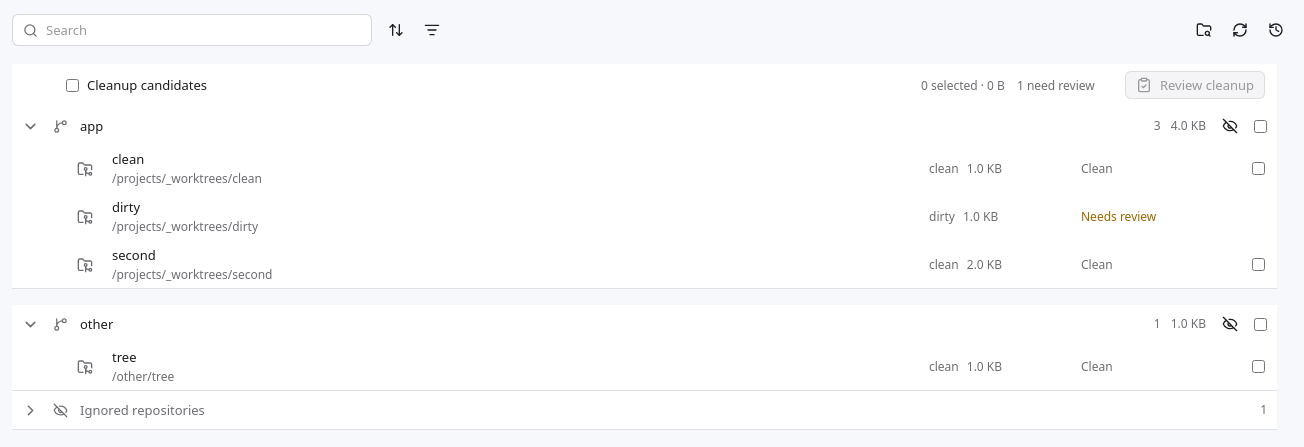
Scenario: WorktreeDialog › selects candidates across collapsed repositories, reports exclusions and exposes mixed selection
Click the checkbox named "Select Worktree for review" in the row of "/projects/_worktrees/clean" at (1258, 168), box [1252,162,1265,175]
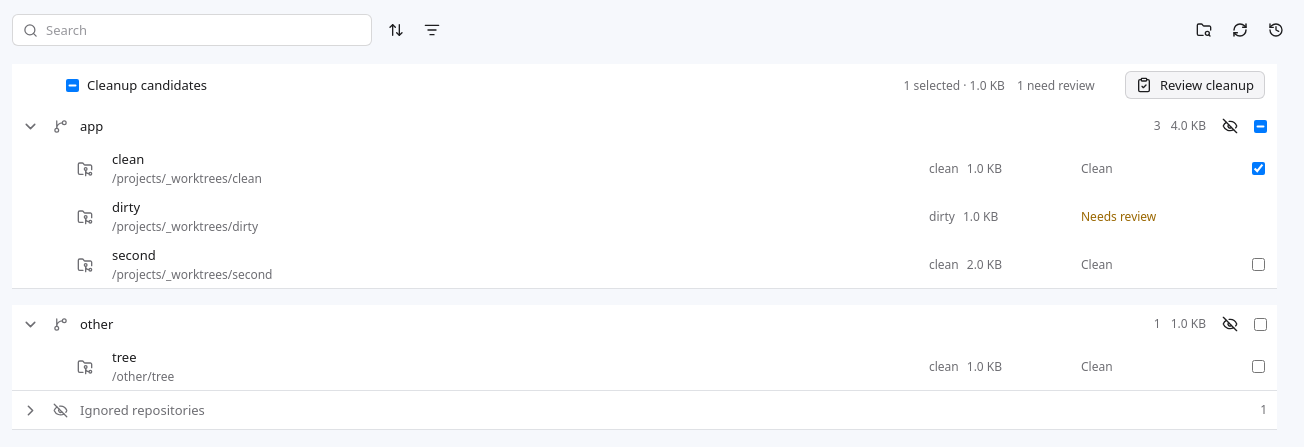
Click the button "app 3" at (30, 126), box [12,107,1171,145]
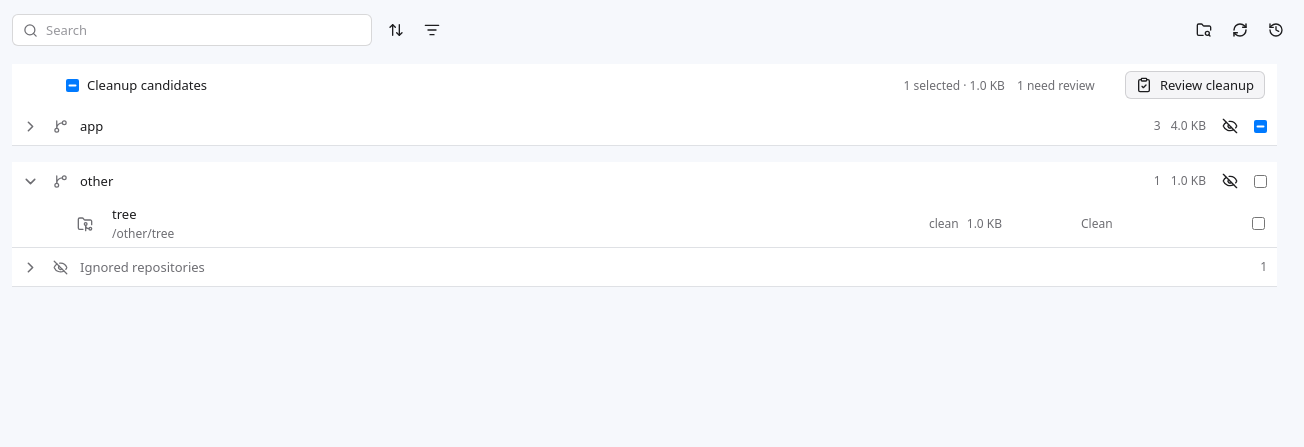
Click the checkbox named "Select all cleanup candidates in this view" at (72, 85), box [66,78,79,92]
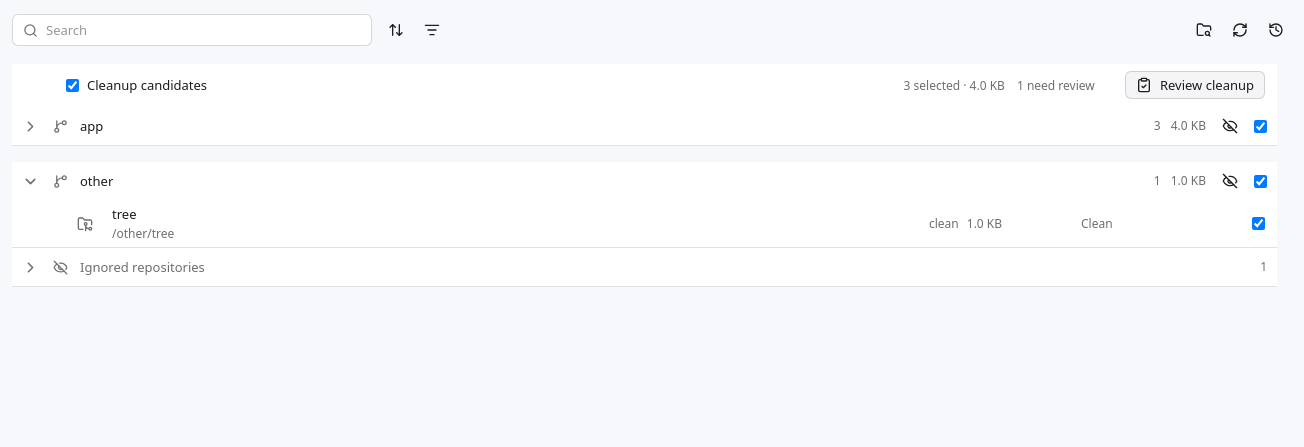
Expected: the text "1 need review" is shown, [1017,76,1095,94]
Result: the checkbox named "Select all cleanup candidates in this view" is checked
Result: the text "3 selected · 4.0 KB" is shown at [904,76,1005,94]
Click the checkbox named "Select all cleanup candidates in this view" at (72, 85), box [66,78,79,92]
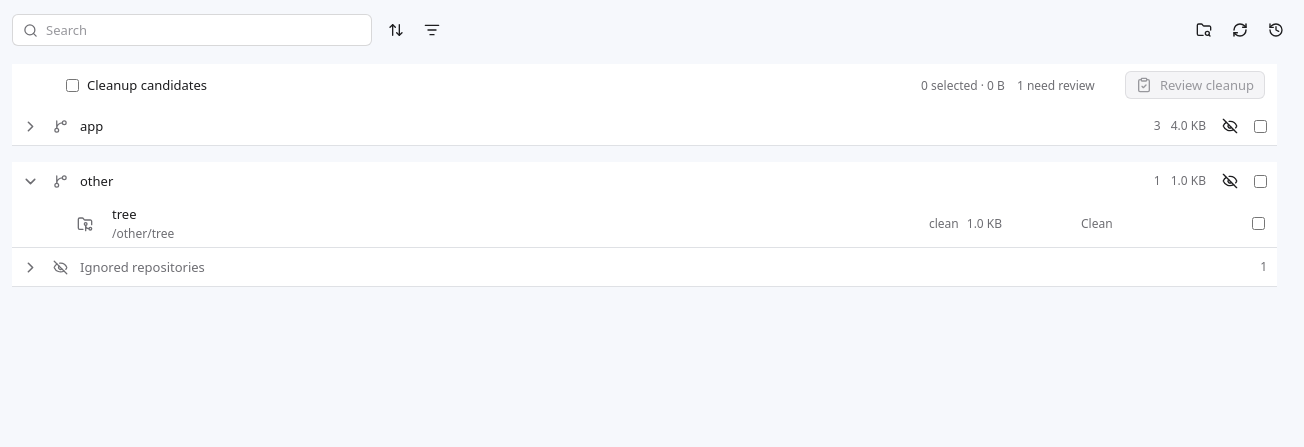
Result: the button with aria-label "Review cleanup (0)" is disabled at [1125,71,1265,99]
Type "/other/tree" into the search field at (204, 30), box [46,15,361,45]
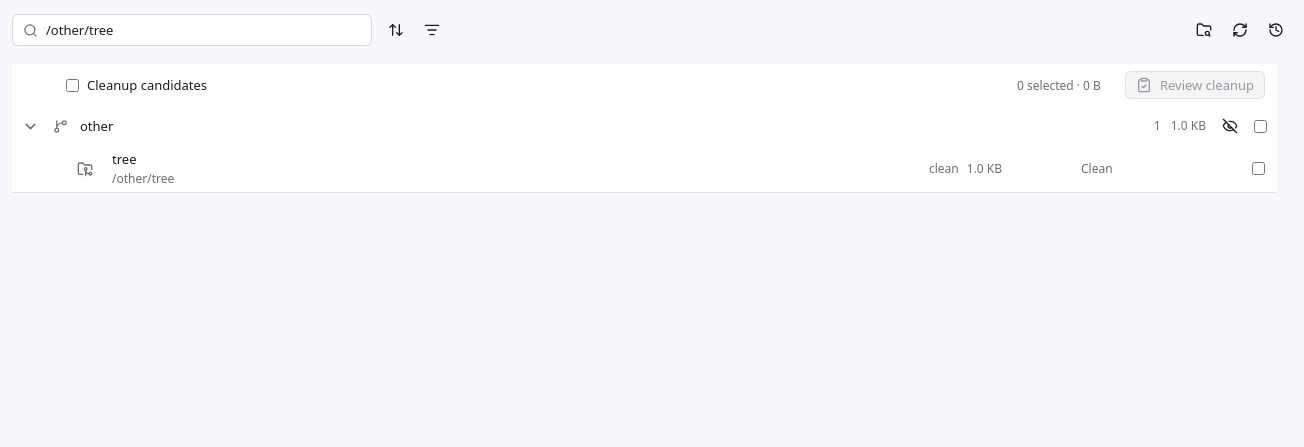
Click the checkbox named "Select all cleanup candidates in this view" at (72, 85), box [66,78,79,92]
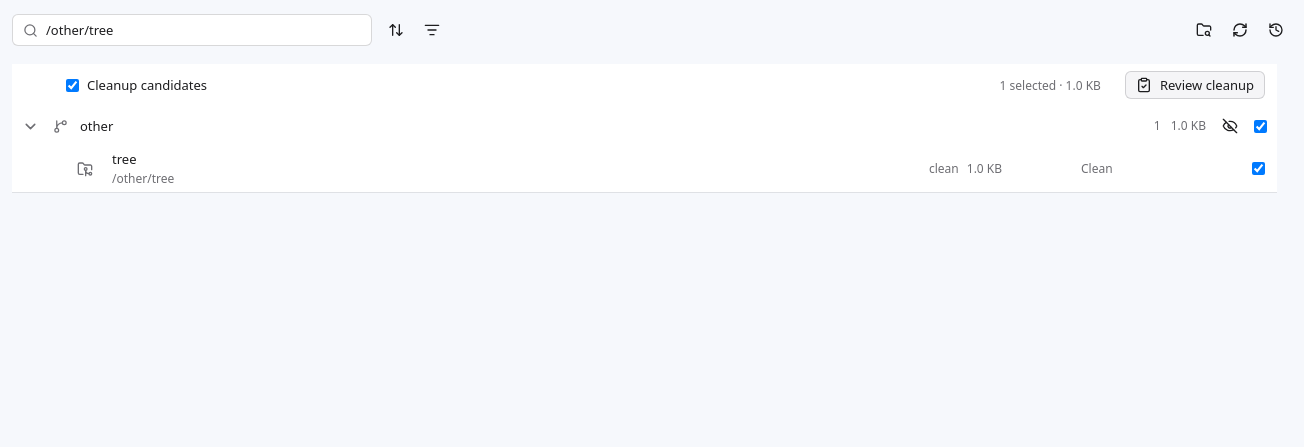
Result: the text "1 selected · 1.0 KB" is shown at [1000,76,1101,94]
